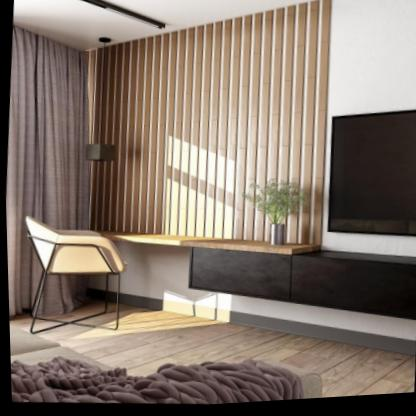Curtains: (5, 25, 79, 319)
Wall Panel: (88, 0, 334, 255)
Wooden floor: (33, 313, 413, 403)
